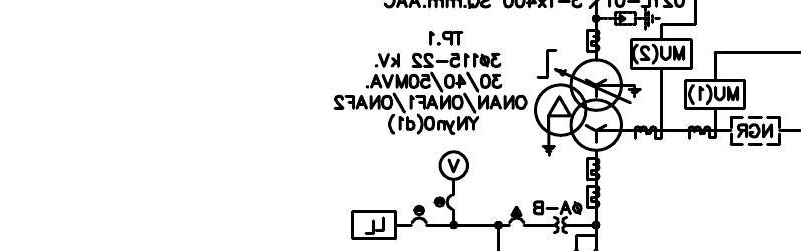11522_tx_ynyn0d1: (533, 58, 624, 153)
LL: (350, 209, 398, 241)
MU: (630, 37, 693, 71), (683, 78, 747, 110)
v_m: (437, 149, 470, 182)
